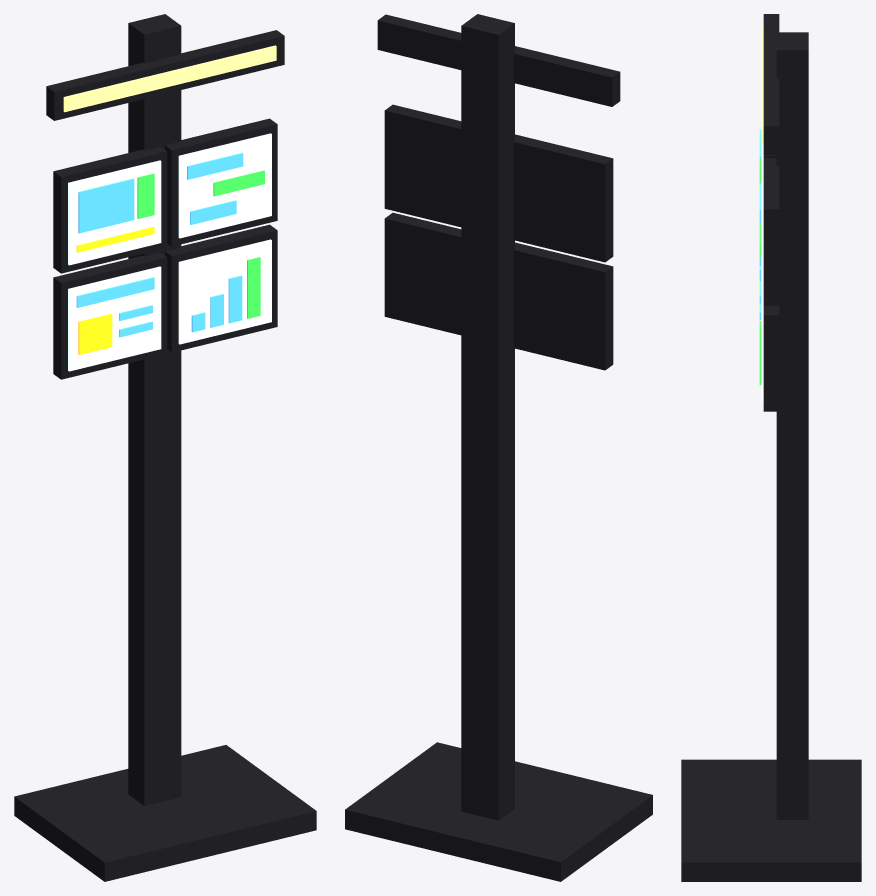
Rendered from station_intake_ausstattung_2_3.glb.
3 renders of one model, left to right at view 1: azimuth 30°, elevation 25°; view 2: azimuth 150°, elevation 25°; view 3: azimuth 270°, elevation 25°, orthographic. The views are drawn at different scales.
Parts seen in each view (by area): view 1: station_intake_ausstattung_2_3; view 2: station_intake_ausstattung_2_3; view 3: station_intake_ausstattung_2_3.
Boxes of the visible parts, x1,y1,x2,y2 form: station_intake_ausstattung_2_3: (14, 14, 316, 881); station_intake_ausstattung_2_3: (345, 14, 652, 881); station_intake_ausstattung_2_3: (681, 14, 861, 881).
Bounding box in the file's own units: 0.5 × 1.64 × 0.34.
